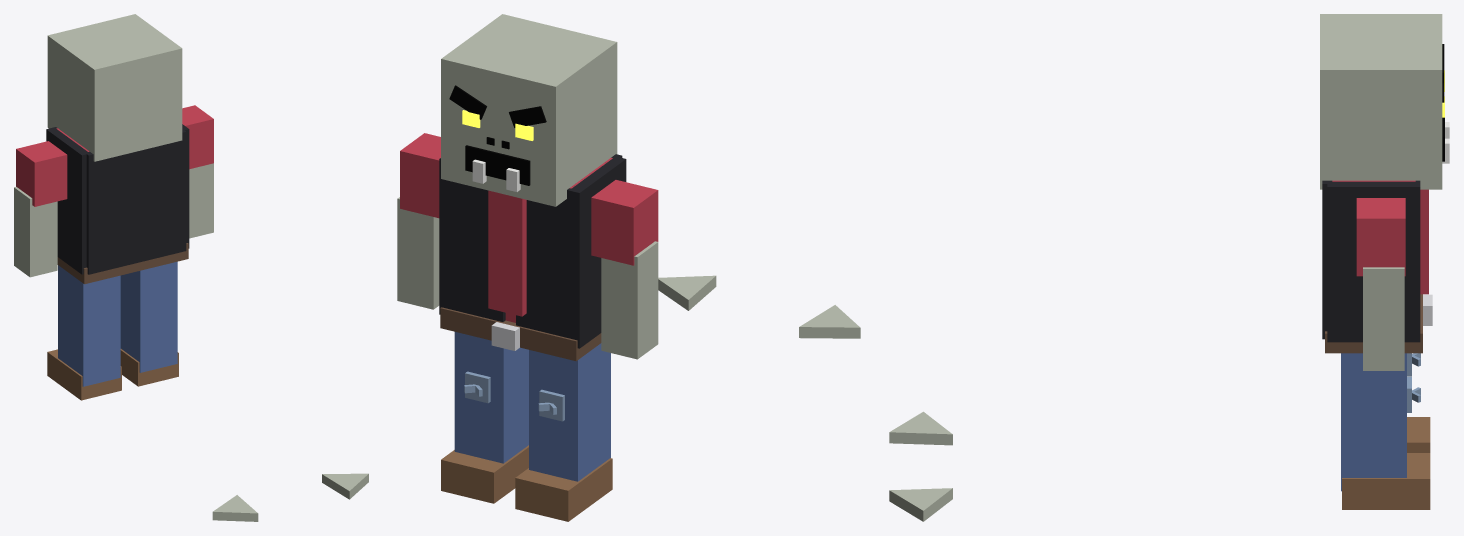
The model's file is Vampire.fbx.
3 renders of one model, left to right at view 1: azimuth 30°, elevation 25°; view 2: azimuth 150°, elevation 25°; view 3: azimuth 270°, elevation 25°, orthographic. The views are drawn at different scales.
Parts seen in each view (by area): view 1: Head, Vest_Back, Leg_L, Leg_R, Vest_L, Arm_L, Sleeve_L, Arm_R, Sleeve_R, Shoe_L, Belt, Shoe_R (+3 smaller); view 2: Head, Vest_L, Leg_L, Leg_R, Vest_R, Arm_L, Sleeve_L, Shirt_Front, Arm_R, Shoe_L, Shoe_R, Sleeve_R (+9 smaller); view 3: Head, Vest_R, Leg_R, Arm_R, Sleeve_R, Shoe_R, Ear_L, Ear_R, Vest_Back, Shirt_Front, Shoe_L, Belt.
Part boxes in pixels (<box>): Head: <box>47,14,182,161</box>; Vest_Back: <box>79,130,186,274</box>; Leg_L: <box>58,265,120,386</box>; Leg_R: <box>120,261,177,372</box>; Vest_L: <box>46,127,86,274</box>; Arm_L: <box>14,187,57,277</box>; Sleeve_L: <box>16,141,67,206</box>; Arm_R: <box>189,163,213,238</box>; Sleeve_R: <box>182,105,213,169</box>; Shoe_L: <box>47,349,121,400</box>; Belt: <box>57,243,188,284</box>; Shoe_R: <box>120,349,178,386</box>; Head: <box>441,14,617,206</box>; Vest_L: <box>516,156,626,348</box>; Leg_L: <box>529,343,610,481</box>; Leg_R: <box>454,332,528,463</box>; Vest_R: <box>439,158,505,321</box>; Arm_L: <box>601,241,658,359</box>; Sleeve_L: <box>591,180,658,265</box>; Shirt_Front: <box>488,190,526,316</box>; Arm_R: <box>397,197,439,309</box>; Shoe_L: <box>515,458,612,521</box>; Shoe_R: <box>441,445,528,503</box>; Sleeve_R: <box>400,133,440,218</box>; Head: <box>1320,14,1442,189</box>; Vest_R: <box>1327,180,1420,342</box>; Leg_R: <box>1341,353,1406,491</box>; Arm_R: <box>1363,267,1404,370</box>; Sleeve_R: <box>1356,198,1405,276</box>; Shoe_R: <box>1342,453,1430,509</box>; Ear_L: <box>889,411,952,445</box>; Ear_R: <box>889,488,952,521</box>; Vest_Back: <box>1322,180,1346,339</box>; Shirt_Front: <box>1420,189,1428,294</box>; Shoe_L: <box>1407,417,1430,452</box>; Belt: <box>1325,294,1422,353</box>.
Bounding box in the file's own units: 1.13 × 1.97 × 2.29.
